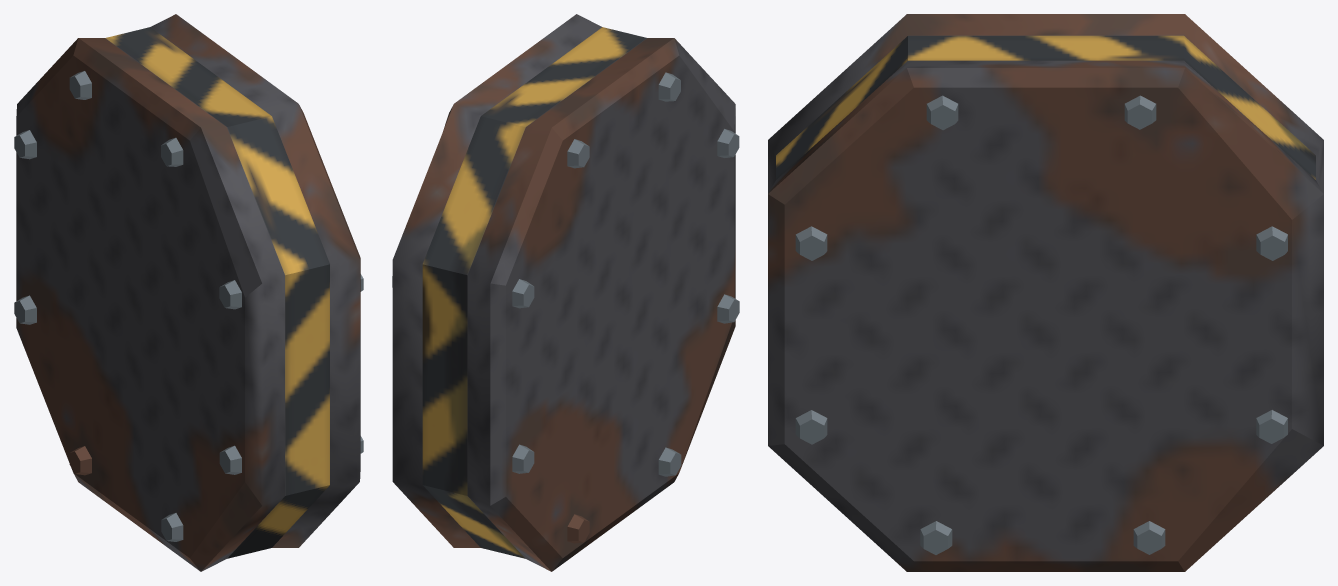
File: SM_Prop_Pipe_Attatchment_Square_End_01.fbx
3 renders of one model, left to right at view 1: azimuth 30°, elevation 25°; view 2: azimuth 150°, elevation 25°; view 3: azimuth 270°, elevation 25°, orthographic. The views are drawn at different scales.
Parts seen in each view (by area): view 1: SM_Prop_Pipe_Attatchment_Square_End_01; view 2: SM_Prop_Pipe_Attatchment_Square_End_01; view 3: SM_Prop_Pipe_Attatchment_Square_End_01.
Boxes of the visible parts, bbox=[...] form: SM_Prop_Pipe_Attatchment_Square_End_01: bbox=[14, 14, 363, 571]; SM_Prop_Pipe_Attatchment_Square_End_01: bbox=[392, 14, 739, 571]; SM_Prop_Pipe_Attatchment_Square_End_01: bbox=[768, 14, 1323, 571].
Size of the model in its own units: 50.78 by 162 by 162.
